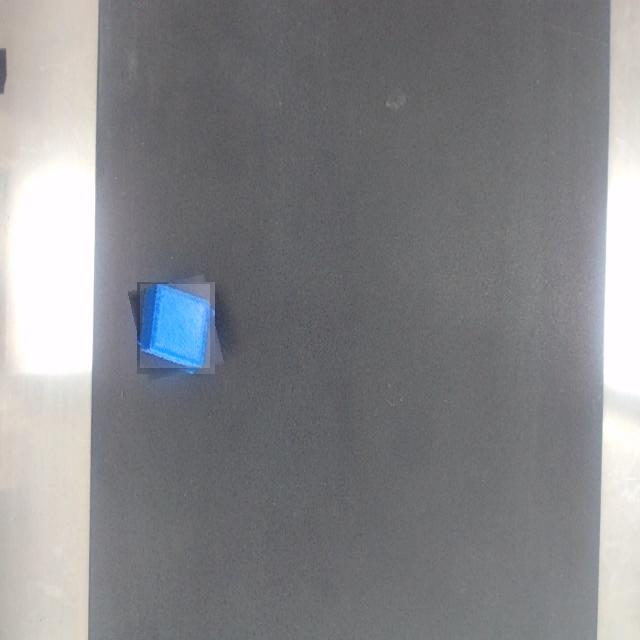Azul: (141, 285, 210, 368)
